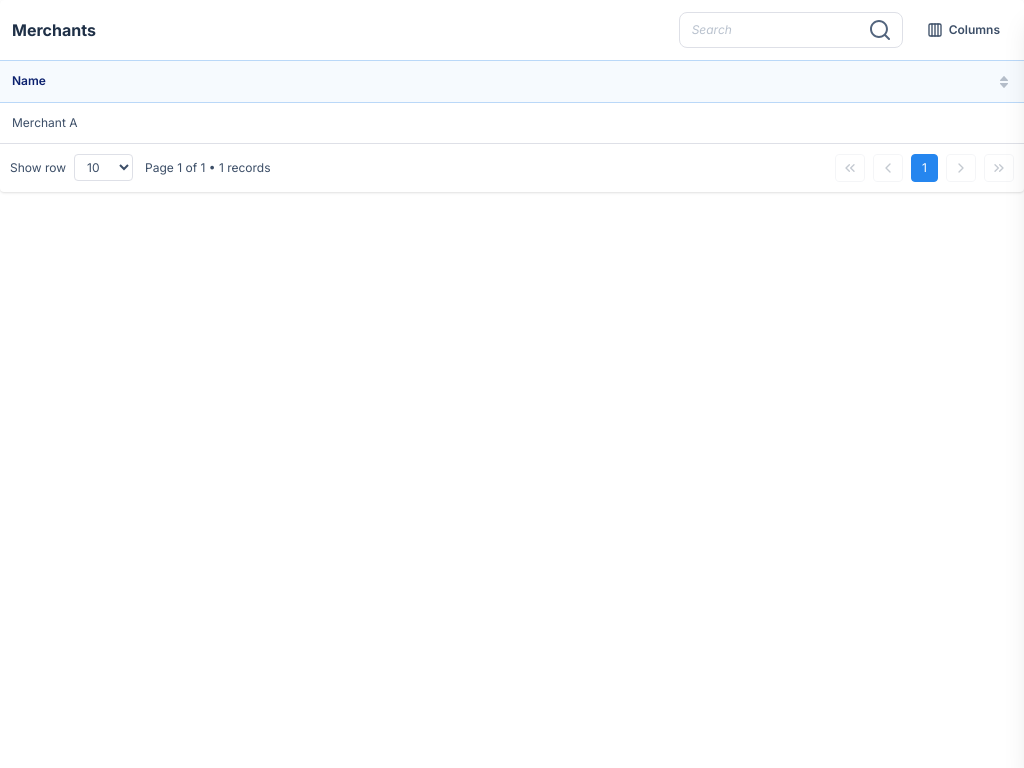
it: GenericTable — columns drawer › lists a column the page hid, so it can be brought back
Check: the text "Merchant A" is shown, box [0, 102, 1023, 143]
Click the button "Columns": (963, 30) [915, 12, 1012, 48]
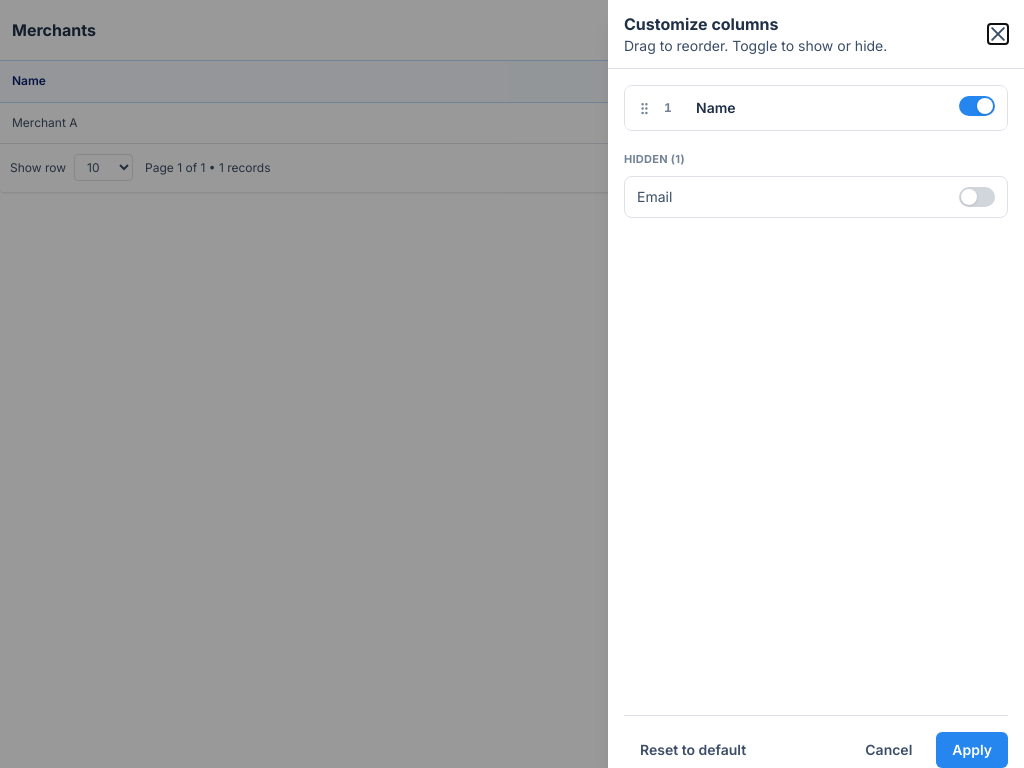
Check: the text "Hidden (1)" is shown, box [624, 152, 685, 166]
Click the switch named "Show Email": (977, 196) [959, 186, 995, 206]
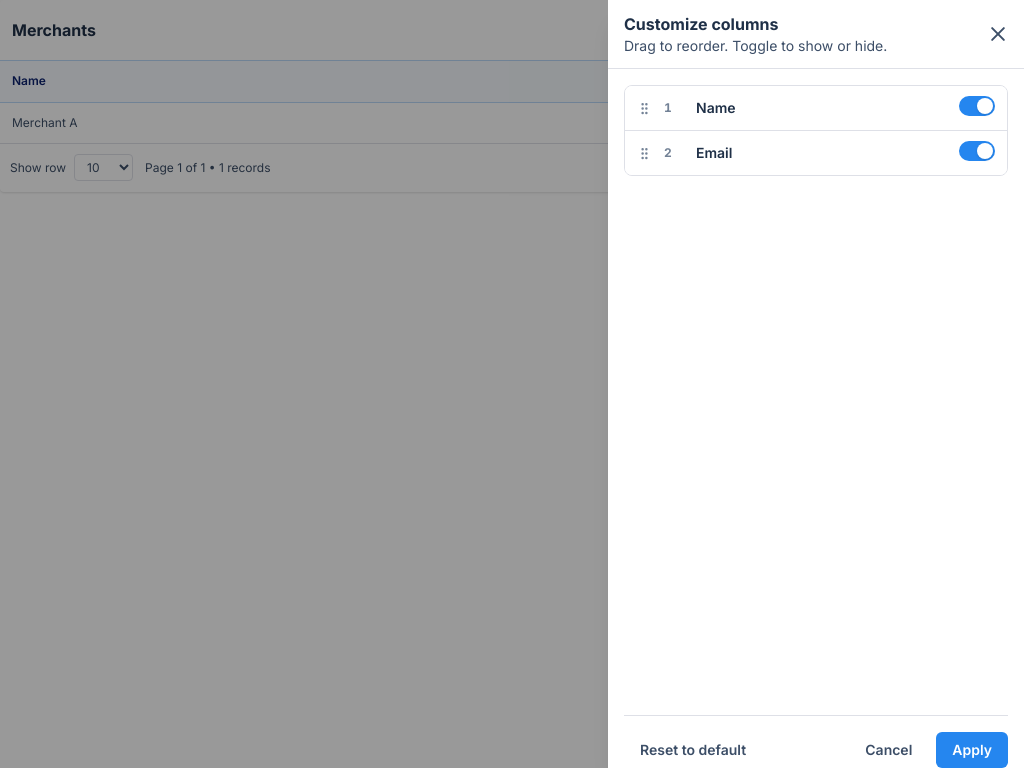
Click the button "Apply": (972, 750) [936, 732, 1008, 767]
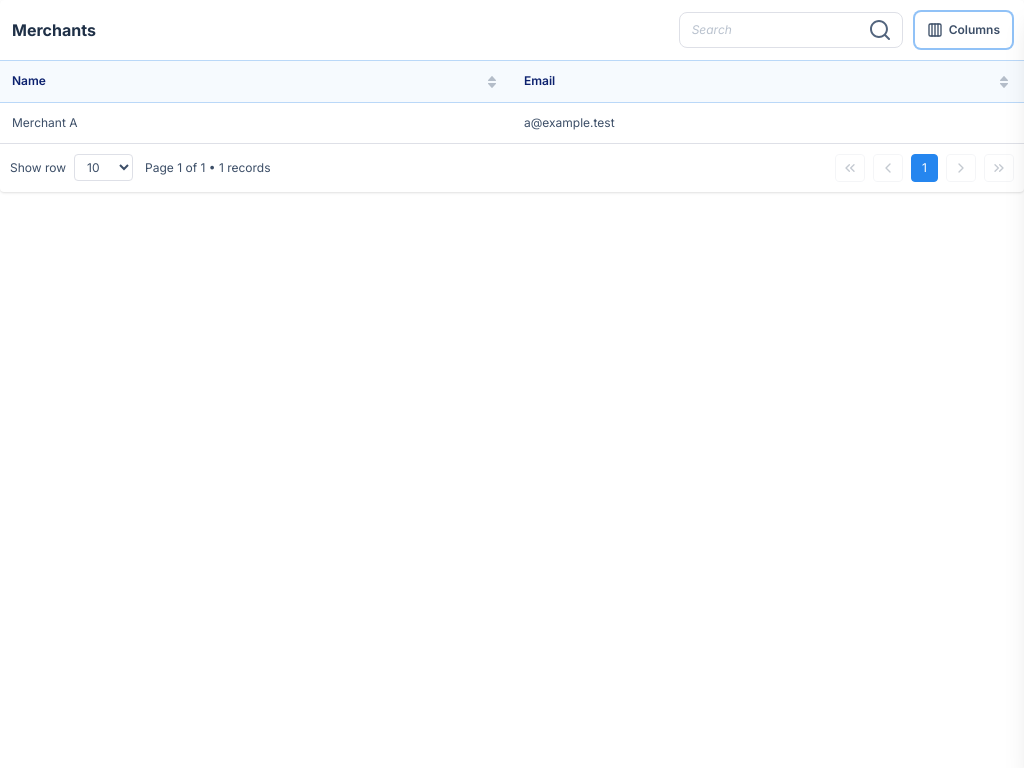
Check: the column heading "Email" is shown, box [512, 60, 1023, 102]
